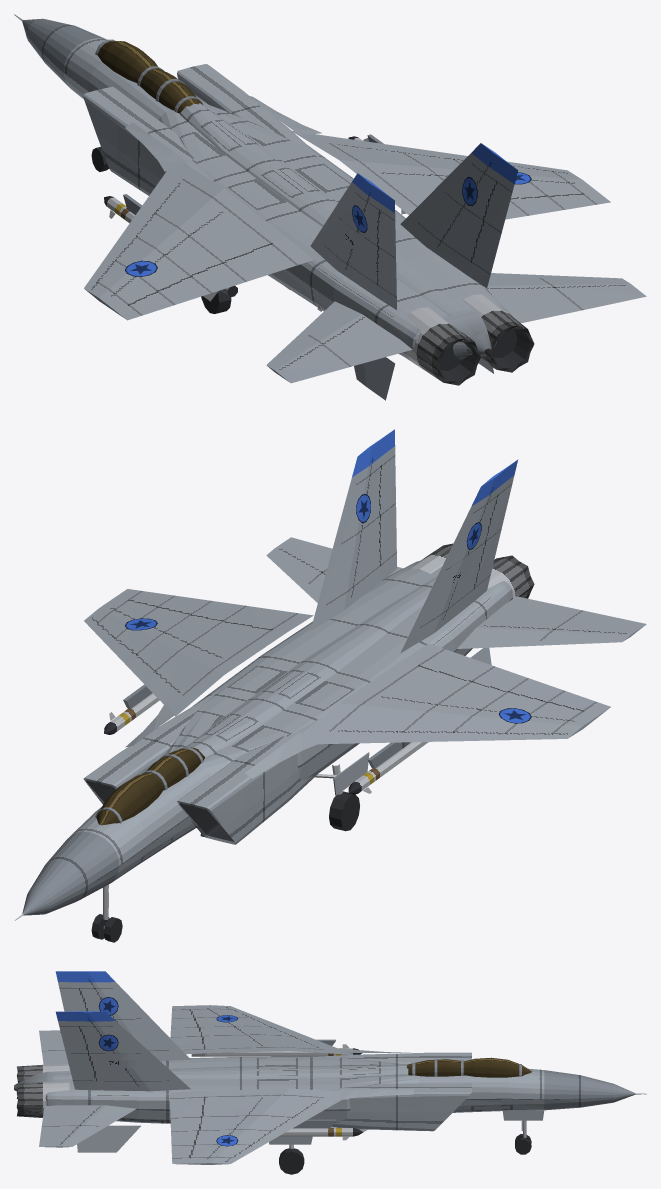
The model's file is mig31.glb.
3 views of the same model, one above another, from view 1: azimuth 30°, elevation 25°; view 2: azimuth 150°, elevation 25°; view 3: azimuth 270°, elevation 25° (orthographic). The views are drawn at different scales.
Visible parts, largest first — view 1: airframe, stab_l, stab_r, canopy, flap_l, rudder_r, rudder_l, aileron_l, aileron_r, msl_0; view 2: airframe, stab_l, canopy, stab_r, flap_l, flap_r, rudder_r, aileron_l, rudder_l, gear_main_l, aileron_r, msl_0 (+2 smaller); view 3: airframe, stab_r, canopy, rudder_r, flap_r, stab_l, msl_0, msl_1, flap_l, aileron_r, gear_main_r, rudder_l (+4 smaller).
Boxes of the visible parts, x1,y1,x2,y2 form: airframe: (14,14,610,400); stab_l: (266,301,412,383); stab_r: (486,273,646,323); canopy: (95,39,203,113); flap_l: (191,242,298,292); rudder_r: (471,180,512,273); rudder_l: (377,209,396,296); aileron_l: (129,276,211,315); aileron_r: (510,193,595,215); msl_0: (104,196,237,301); airframe: (14,429,610,920); stab_l: (457,596,646,648); canopy: (95,747,204,825); stab_r: (266,537,402,602); flap_l: (416,648,527,691); flap_r: (191,601,298,630); rudder_r: (380,454,396,564); aileron_l: (508,678,595,710); rudder_l: (474,483,512,588); gear_main_l: (315,764,359,831); aileron_r: (129,591,211,614); msl_0: (348,742,428,794); airframe: (14,971,646,1164); stab_r: (39,1105,136,1147); canopy: (406,1057,531,1077); rudder_r: (59,1025,96,1080); flap_r: (169,1096,205,1131); stab_l: (39,1030,68,1064); msl_0: (191,1044,362,1056); msl_1: (279,1128,363,1140); flap_l: (170,1027,205,1050); aileron_r: (171,1130,198,1157); gear_main_r: (279,1144,304,1174); rudder_l: (59,987,86,1011).
Size of the model in its own units: 13.46 by 6.37 by 22.8.
Materials: 6 (6 with a texture image).
